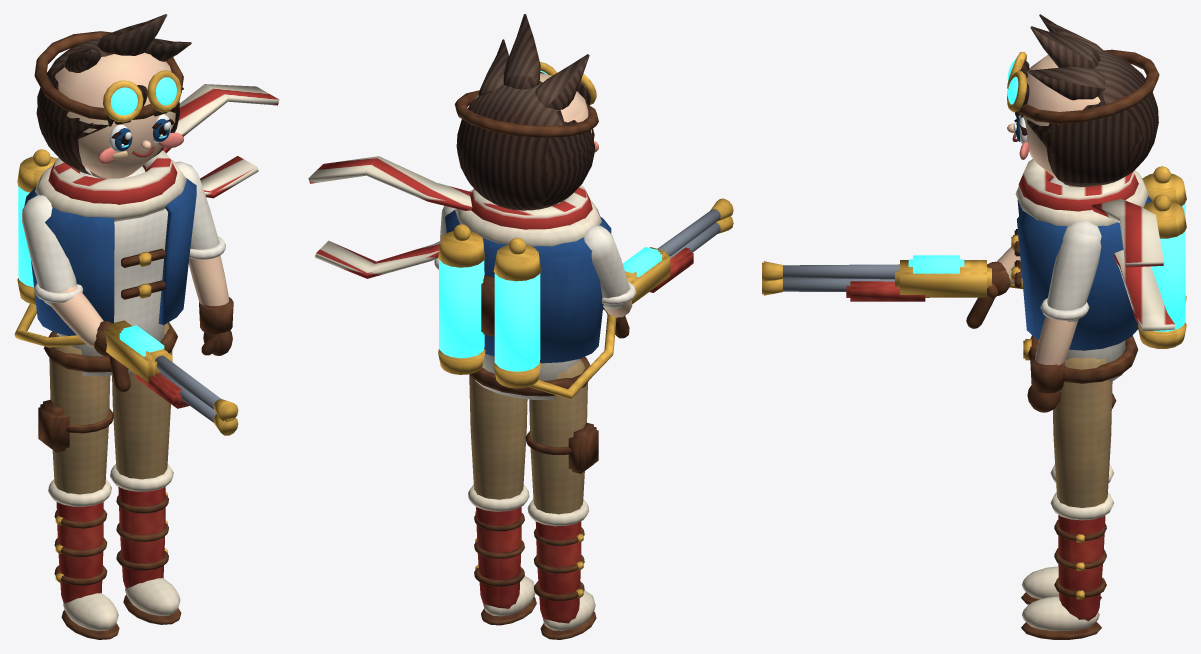
The model's file is char_seeker_aviator.glb.
3 renders of one model, left to right at view 1: azimuth 30°, elevation 25°; view 2: azimuth 150°, elevation 25°; view 3: azimuth 270°, elevation 25°, orthographic. The views are drawn at different scales.
Visible parts, largest first — view 1: Torso, Head, LegR, LegL, Blaster, ArmR, ArmL, EyeOpen; view 2: Torso, Head, LegR, LegL, Blaster, ArmR; view 3: Torso, Head, LegL, Blaster, ArmL, LegR, ArmR.
Part boxes in pixels (left/top/right/bottom): Torso: left=14, top=84, right=279, bottom=376; Head: left=34, top=14, right=191, bottom=178; LegR: left=38, top=334, right=119, bottom=639; LegL: left=110, top=323, right=181, bottom=624; Blaster: left=104, top=320, right=238, bottom=435; ArmR: left=22, top=195, right=111, bottom=356; ArmL: left=175, top=161, right=233, bottom=355; EyeOpen: left=109, top=114, right=174, bottom=152; Torso: left=308, top=156, right=616, bottom=399; Head: left=454, top=14, right=598, bottom=210; LegR: left=525, top=359, right=598, bottom=639; LegL: left=468, top=375, right=536, bottom=625; Blaster: left=615, top=198, right=733, bottom=338; ArmR: left=584, top=225, right=636, bottom=318; Torso: left=1010, top=159, right=1186, bottom=383; Head: left=1007, top=14, right=1159, bottom=186; LegL: left=1021, top=357, right=1113, bottom=639; Blaster: left=762, top=255, right=994, bottom=328; ArmL: left=1027, top=221, right=1101, bottom=412; LegR: left=1021, top=393, right=1116, bottom=604; ArmR: left=987, top=246, right=1022, bottom=298.
Bounding box in the file's own units: 0.9299 × 1.93 × 1.22.
Materials: 22 (10 with a texture image).
